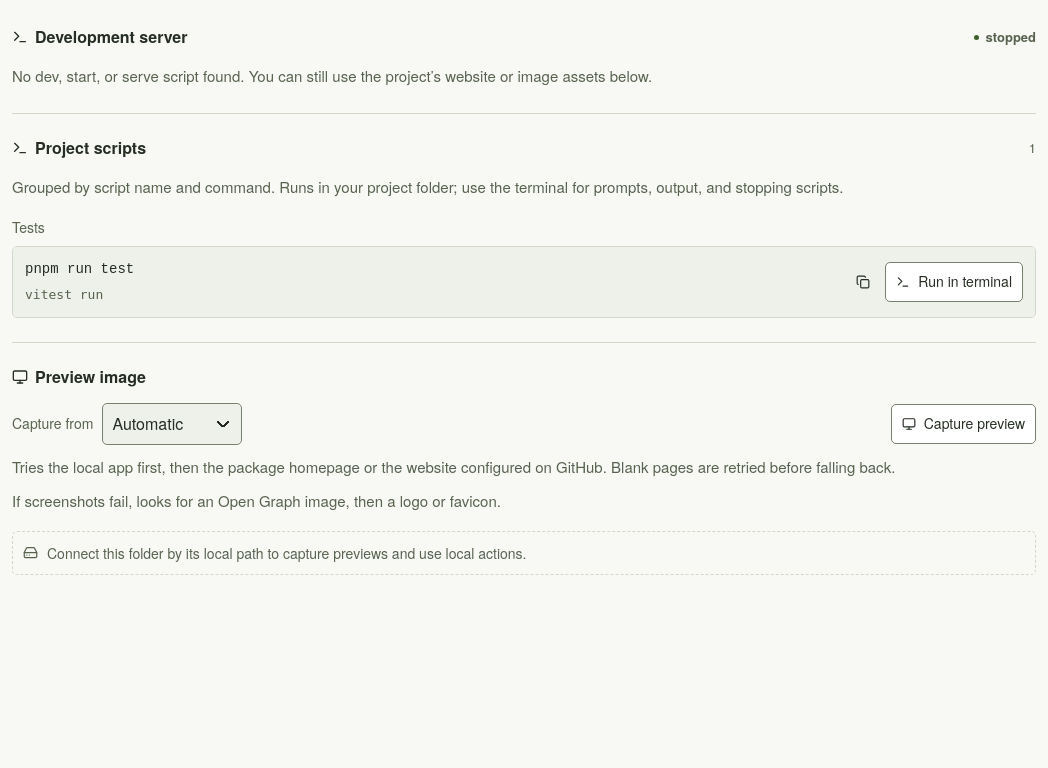
Test: project script actions › makes scripts available even without a dev server and copies commands in browser mode
The image size is (1048, 768).
What coordinates should you click on to do the following:
click the button named "Copy test command"
I would click on:
 (863, 282)
Its box is [845,262,881,302].
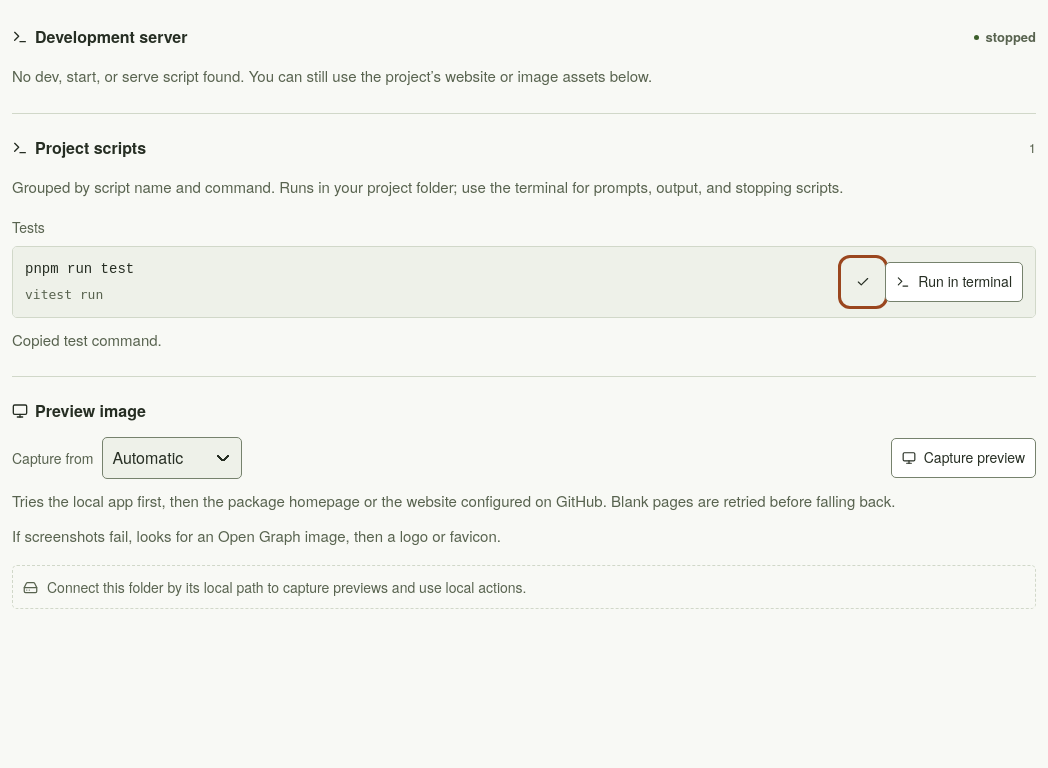
Check: the message reads "Copied test command.", box [12,328,162,350]
